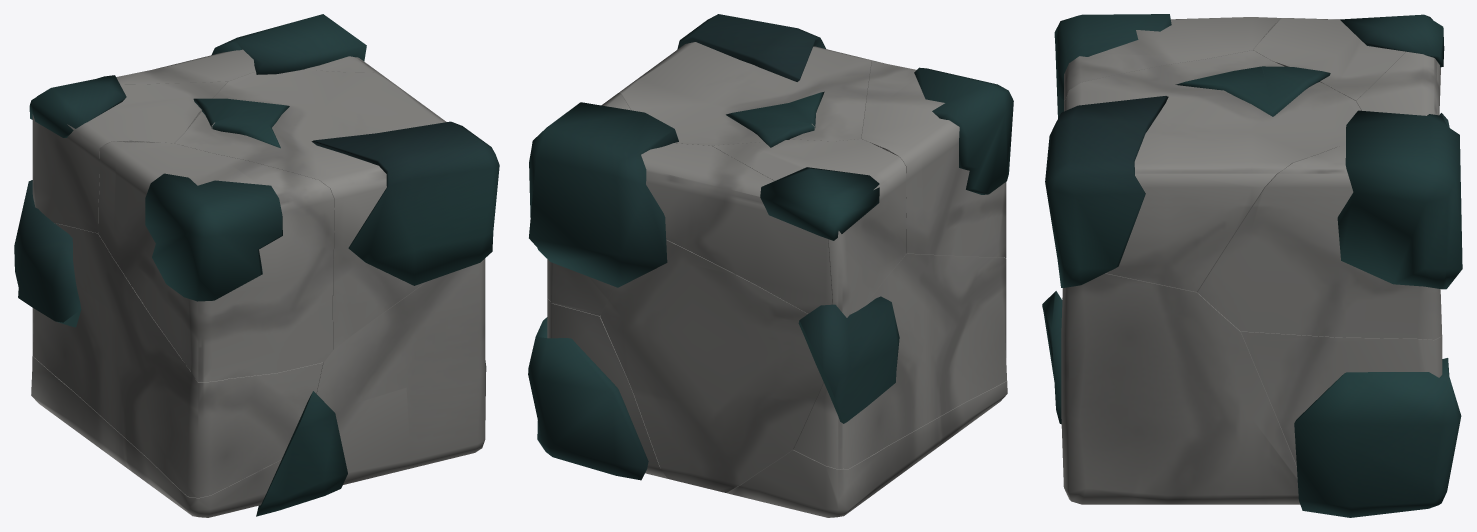
Rendered from Coal.fbx.
3 views of the same model, side by side, from view 1: azimuth 30°, elevation 25°; view 2: azimuth 150°, elevation 25°; view 3: azimuth 270°, elevation 25° (orthographic). The views are drawn at different scales.
Parts seen in each view (by area): view 1: Cube_Parts.013, Cube_Parts.012, Cube_Parts.019, Cube_Parts.016, Ore.019, Ore.016, Cube_Parts.015, Cube_Parts.014, Ore.022, Ore.025, Ore.015, Ore.017 (+3 smaller); view 2: Cube_Parts.010, Cube_Parts.013, Ore.015, Cube_Parts.018, Cube_Parts.016, Cube_Parts.012, Cube_Parts.015, Ore.011, Cube_Parts.014, Ore.022, Ore.016, Ore.017 (+4 smaller); view 3: Cube_Parts.019, Cube_Parts.016, Cube_Parts.011, Ore.011, Ore.015, Ore.019, Cube_Parts.017, Cube_Parts.012, Cube_Parts.015, Ore.016, Cube_Parts.018, Ore.013 (+2 smaller).
Boxes of the visible parts, bbox=[...] form: Cube_Parts.013: bbox=[32, 223, 322, 497]; Cube_Parts.012: bbox=[98, 141, 334, 382]; Cube_Parts.019: bbox=[316, 258, 486, 484]; Cube_Parts.016: bbox=[174, 69, 446, 349]; Ore.019: bbox=[311, 121, 499, 285]; Ore.016: bbox=[145, 173, 282, 301]; Cube_Parts.015: bbox=[32, 81, 227, 233]; Cube_Parts.014: bbox=[31, 350, 281, 517]; Ore.022: bbox=[14, 180, 81, 327]; Ore.025: bbox=[256, 391, 347, 516]; Ore.015: bbox=[211, 14, 366, 74]; Ore.017: bbox=[29, 75, 126, 137]; Cube_Parts.010: bbox=[600, 240, 823, 492]; Cube_Parts.013: bbox=[793, 253, 1006, 469]; Ore.015: bbox=[529, 102, 678, 287]; Cube_Parts.018: bbox=[641, 143, 832, 313]; Cube_Parts.016: bbox=[619, 42, 872, 145]; Cube_Parts.012: bbox=[861, 60, 1006, 257]; Cube_Parts.015: bbox=[712, 139, 906, 317]; Ore.011: bbox=[528, 317, 648, 480]; Cube_Parts.014: bbox=[726, 381, 1007, 517]; Ore.022: bbox=[798, 296, 899, 423]; Ore.016: bbox=[914, 67, 1013, 194]; Ore.017: bbox=[760, 167, 879, 240]; Cube_Parts.019: bbox=[1061, 273, 1300, 504]; Cube_Parts.016: bbox=[1064, 50, 1361, 292]; Cube_Parts.011: bbox=[1197, 143, 1442, 339]; Ore.011: bbox=[1294, 358, 1461, 517]; Ore.015: bbox=[1337, 110, 1462, 289]; Ore.019: bbox=[1045, 96, 1168, 287]; Cube_Parts.017: bbox=[1241, 331, 1442, 464]; Cube_Parts.012: bbox=[1064, 17, 1281, 101]; Cube_Parts.015: bbox=[1253, 18, 1405, 100]; Ore.016: bbox=[1054, 14, 1171, 118]; Cube_Parts.018: bbox=[1356, 51, 1440, 115]; Ore.013: bbox=[1175, 66, 1330, 116].
Bounding box in the file's own units: 221 × 213 × 224.
